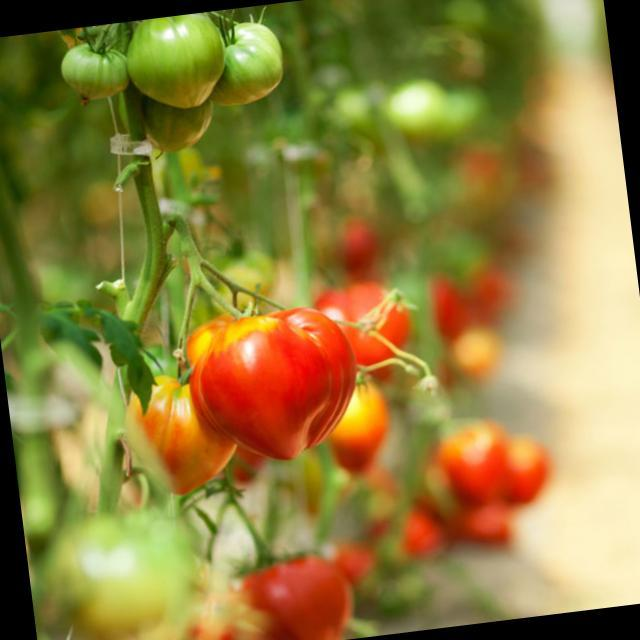TOMATO: (124, 10, 234, 115), (214, 18, 284, 108), (59, 37, 136, 114)
